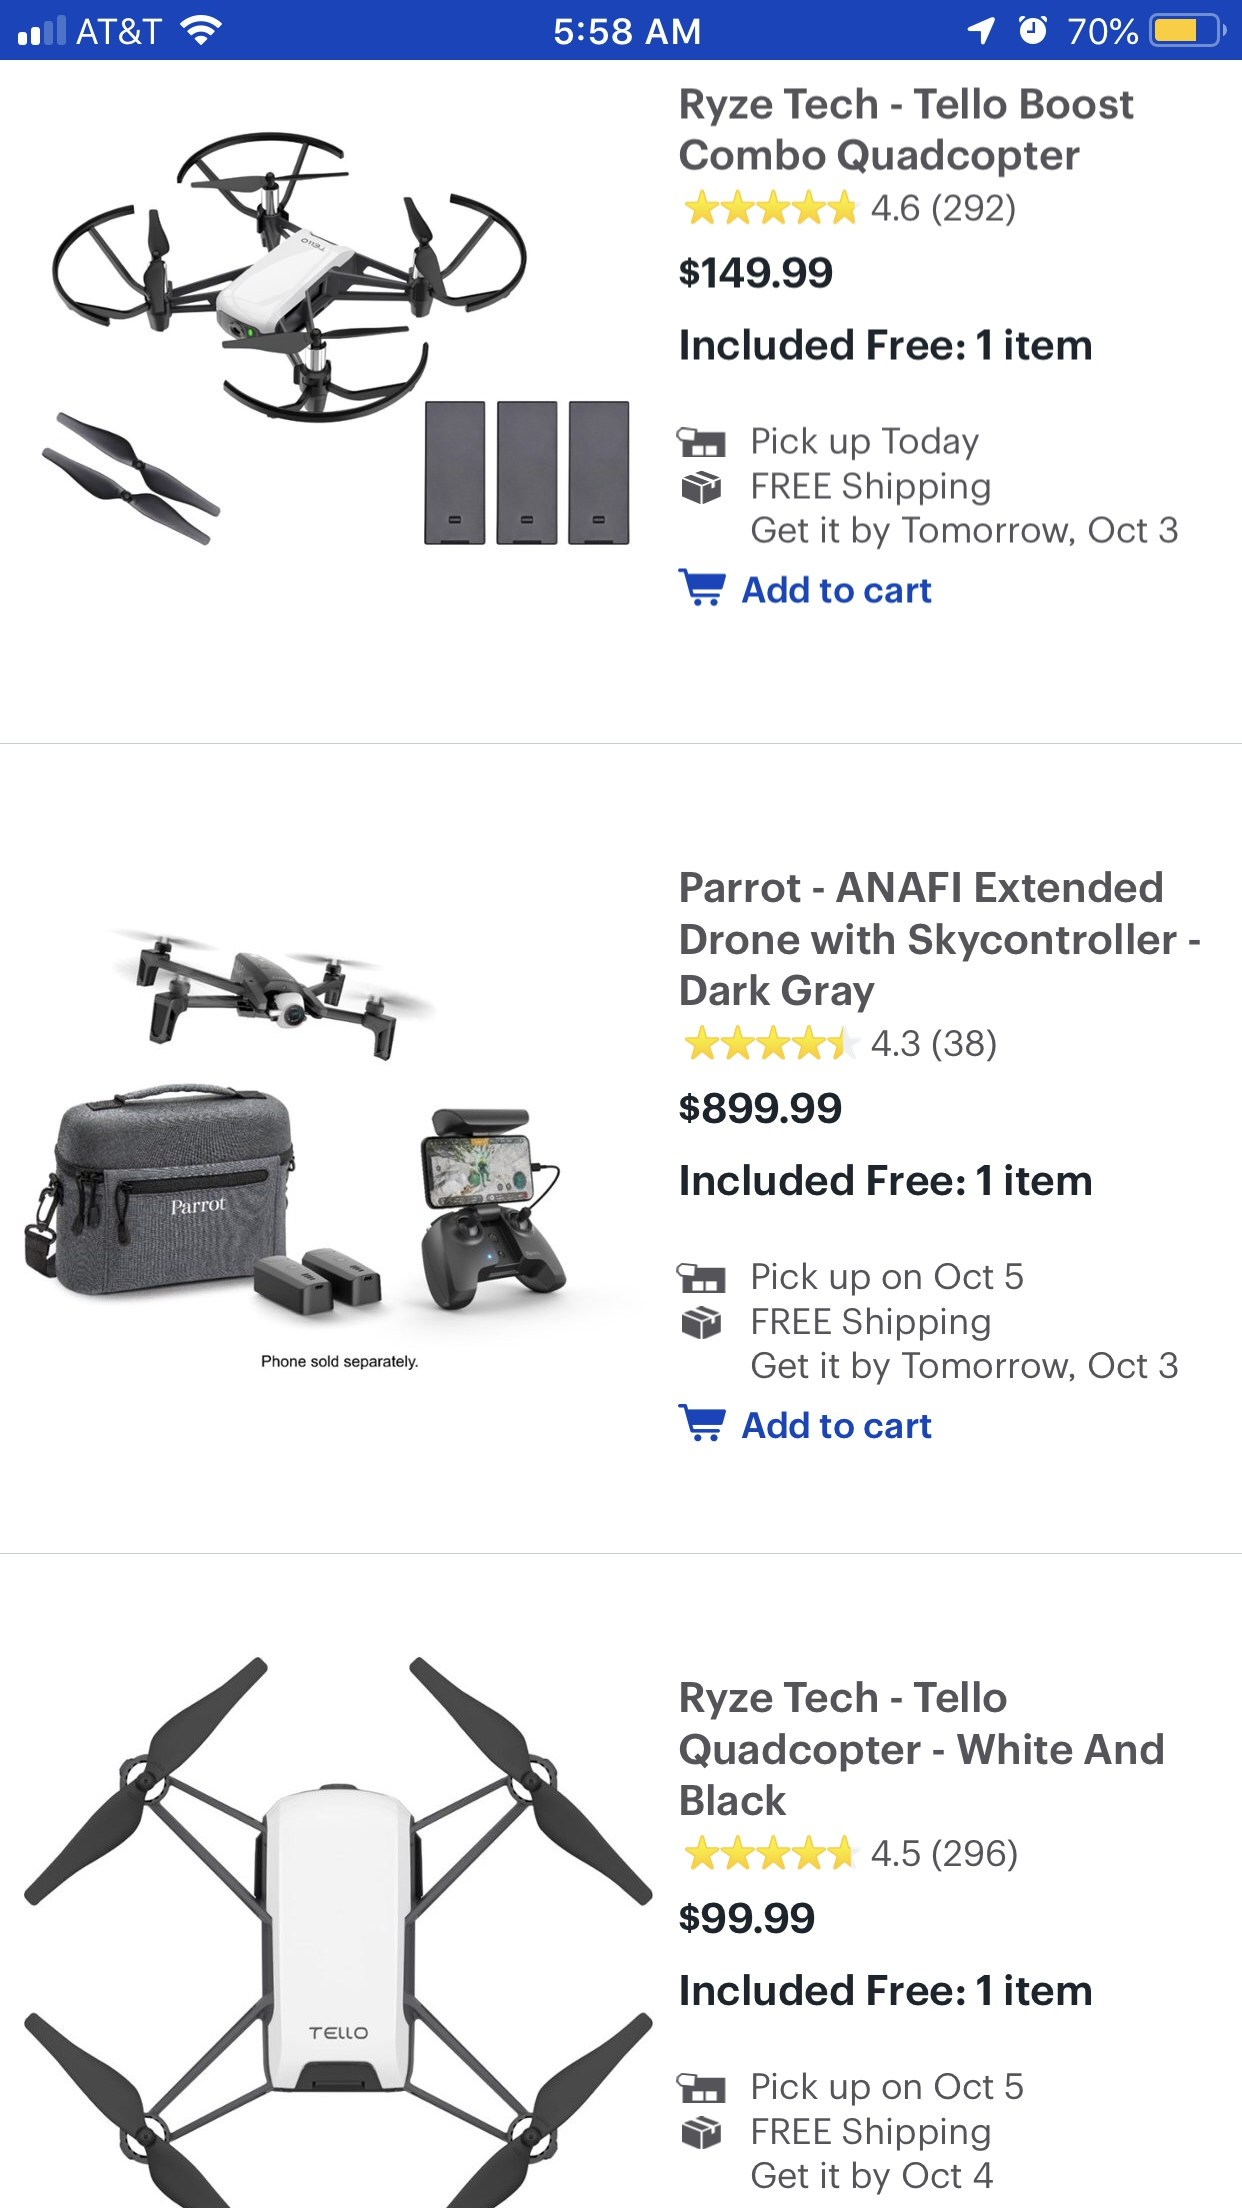Icon: (685, 1833, 863, 1871), (685, 1024, 863, 1062), (684, 190, 863, 226), (676, 1404, 726, 1444), (676, 569, 726, 608)
Image: (23, 1656, 654, 2208), (42, 130, 631, 547), (23, 928, 569, 1318), (676, 1262, 726, 1294), (676, 428, 726, 459), (676, 2073, 726, 2103), (681, 2115, 722, 2150), (681, 1306, 722, 1341), (682, 472, 722, 507)
Text: (681, 870, 1201, 1015), (679, 1680, 1165, 1817), (751, 1262, 1178, 1386), (752, 426, 1178, 550), (679, 88, 1134, 180), (752, 2072, 1024, 2194), (681, 328, 1092, 362), (681, 1973, 1092, 2006), (681, 1165, 1092, 1197), (742, 575, 933, 605), (742, 1410, 933, 1441), (679, 1092, 842, 1125), (678, 256, 833, 290), (870, 1838, 1018, 1873), (870, 193, 1016, 227), (679, 1902, 814, 1935), (870, 1028, 996, 1063), (262, 1354, 419, 1371)
UpperTaskBar: (2, 2, 1242, 61)
